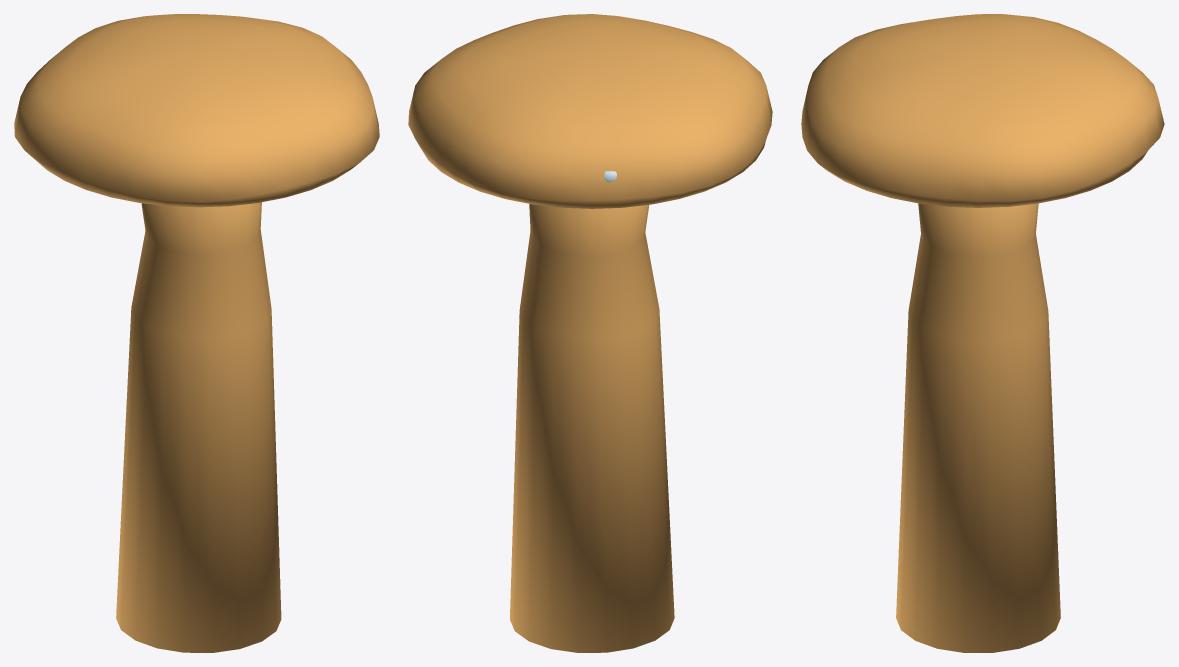
The model's file is SM_Forest_MushroomStep_V2.fbx.
3 views of the same model, side by side, from view 1: azimuth 30°, elevation 25°; view 2: azimuth 150°, elevation 25°; view 3: azimuth 270°, elevation 25° (orthographic).
Visible parts, largest first — view 1: SM_Forest_MushroomStep_V2; view 2: SM_Forest_MushroomStep_V2; view 3: SM_Forest_MushroomStep_V2.
Part boxes in pixels (x1,y1,x2,y2): SM_Forest_MushroomStep_V2: [14, 14, 379, 652]; SM_Forest_MushroomStep_V2: [408, 14, 772, 652]; SM_Forest_MushroomStep_V2: [801, 14, 1164, 652].
Size of the model in its own units: 128 by 220 by 128.
